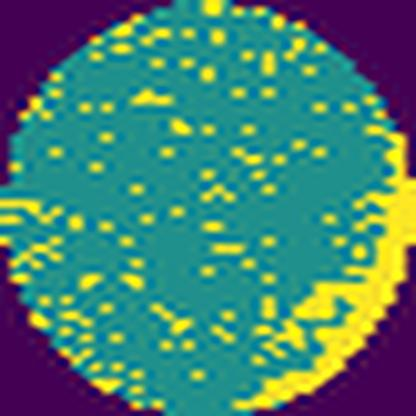Edge-Loc: (232, 118, 415, 416)
